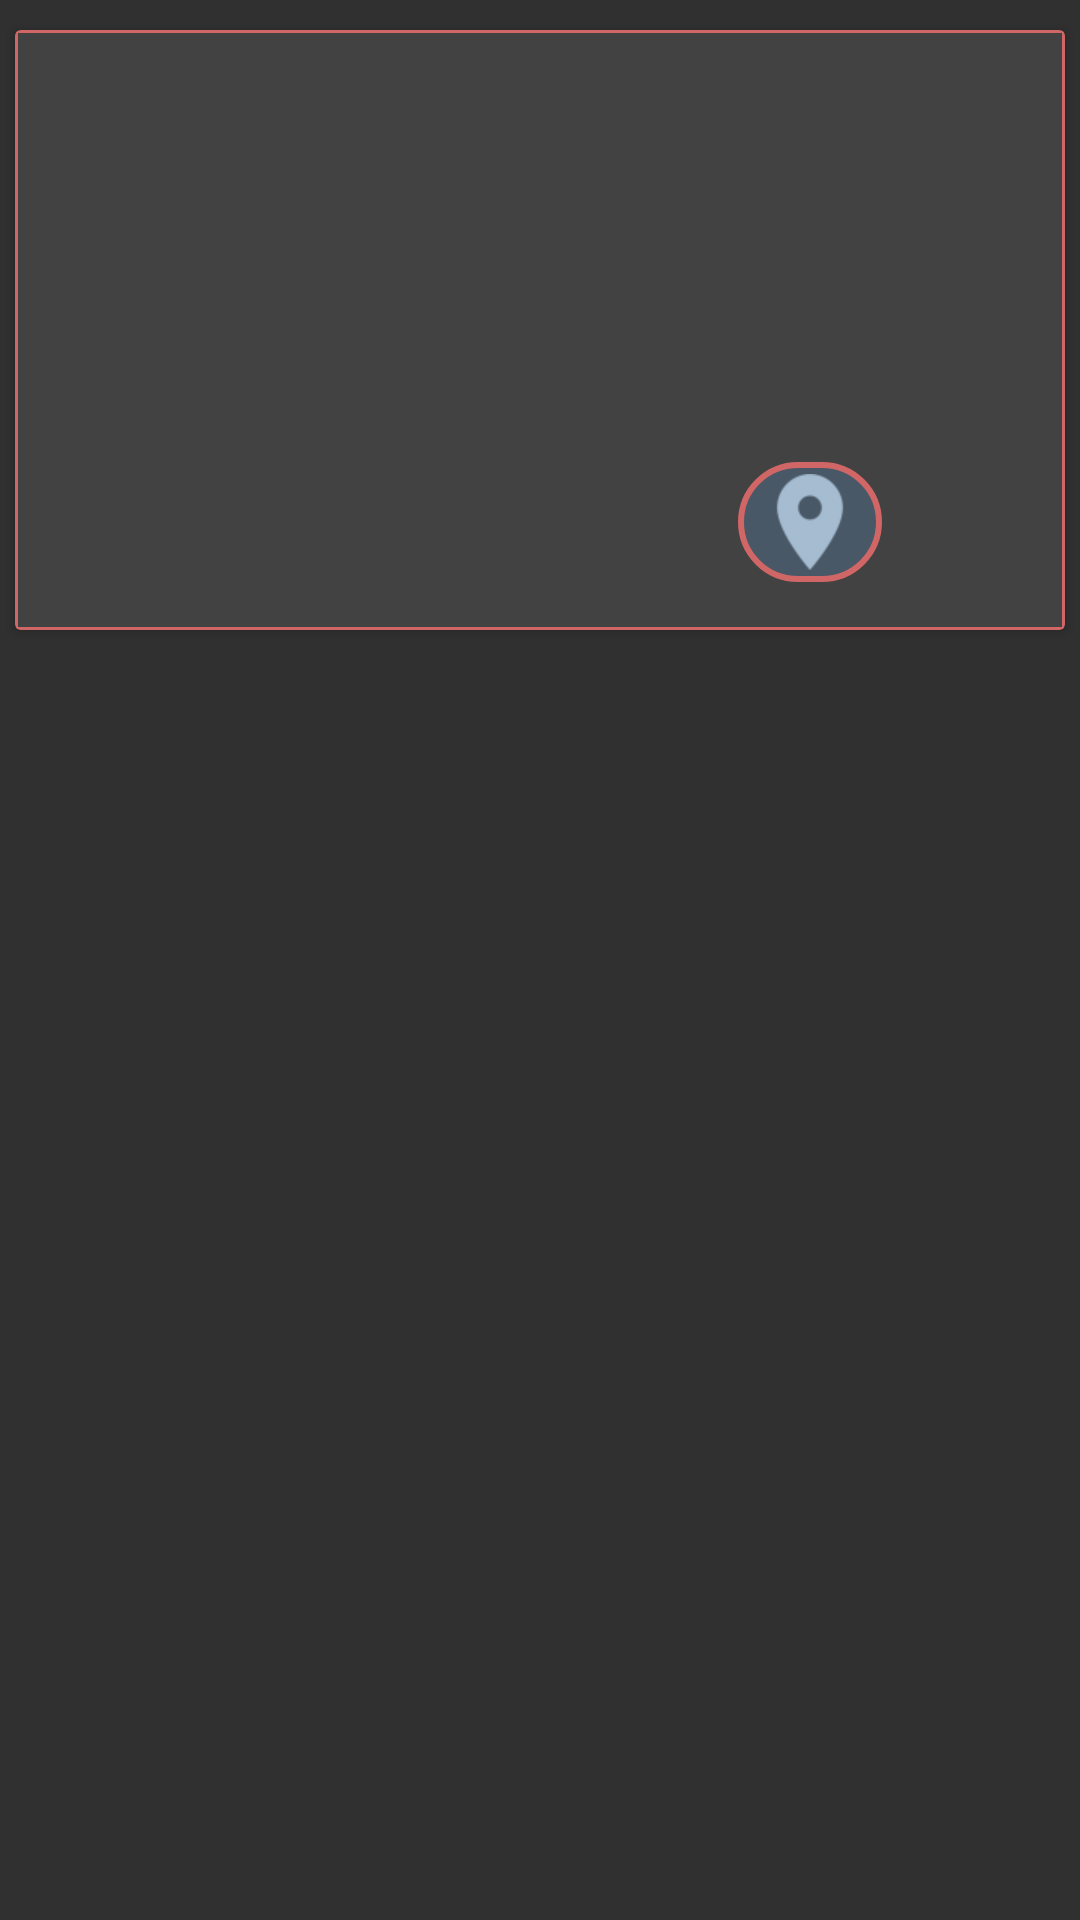

Named icons in this screenshot (1080 x 1920) and their bounding boxes, (x1, y1, x2, y2):
gotomap: (738, 462, 882, 582)
